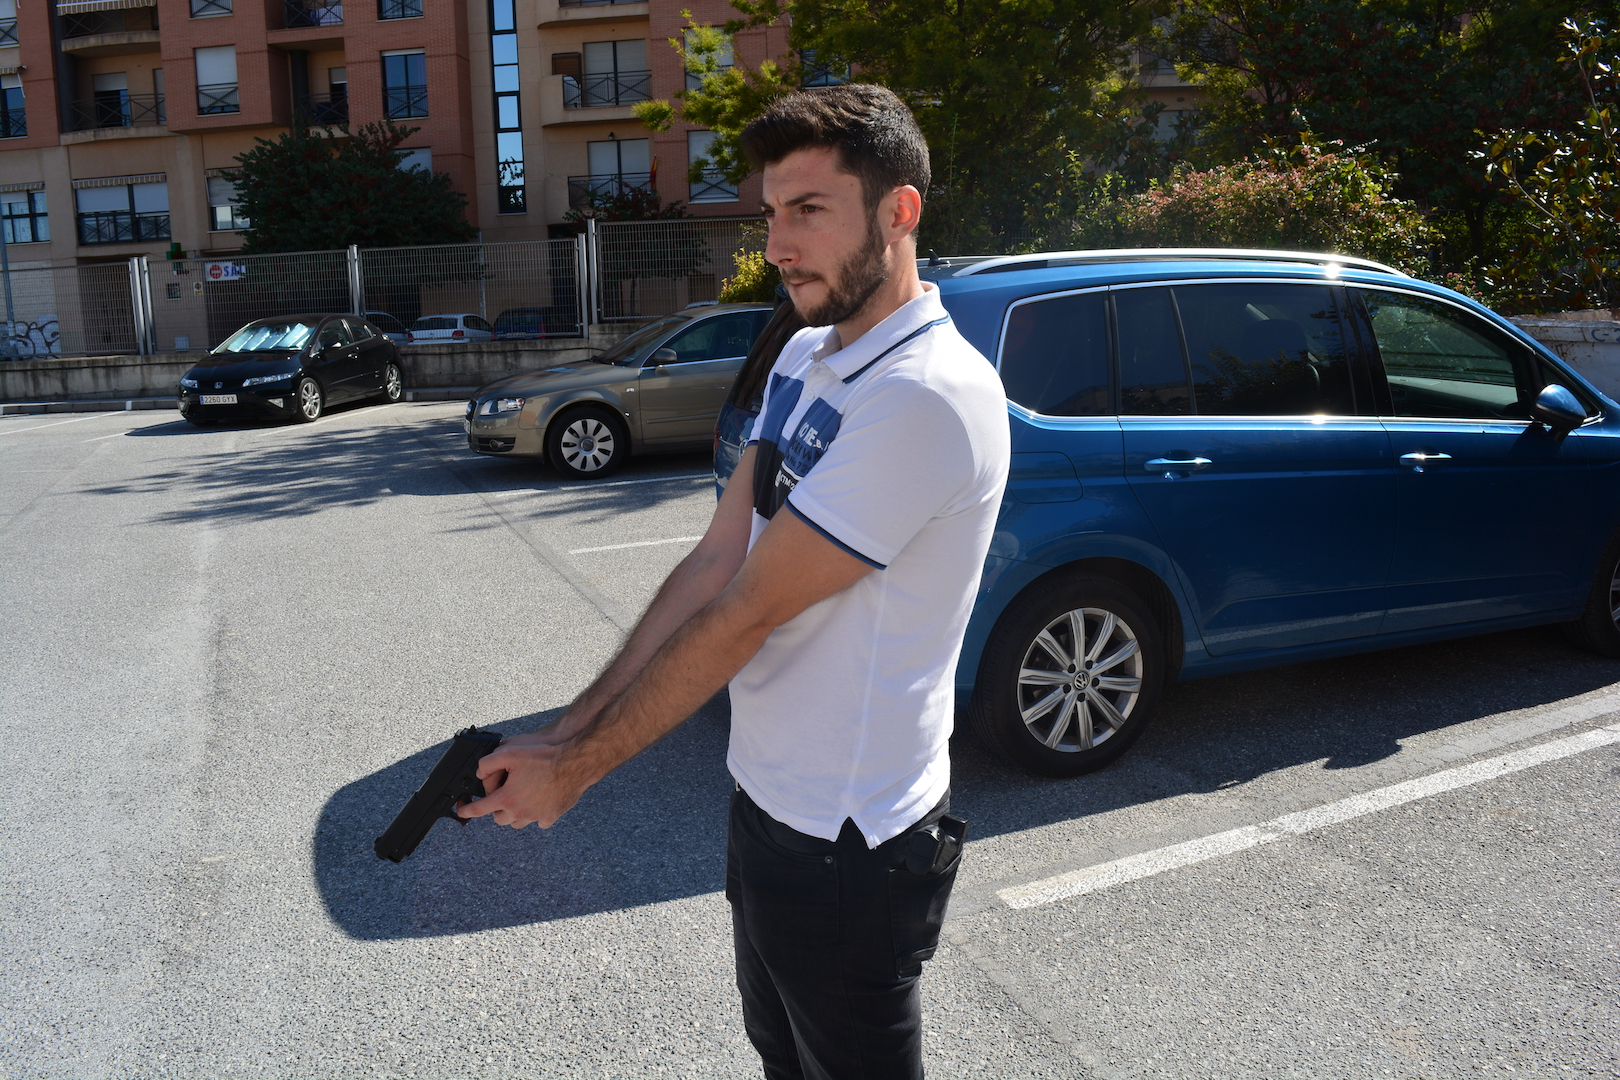pistol: (372, 724, 511, 864)
